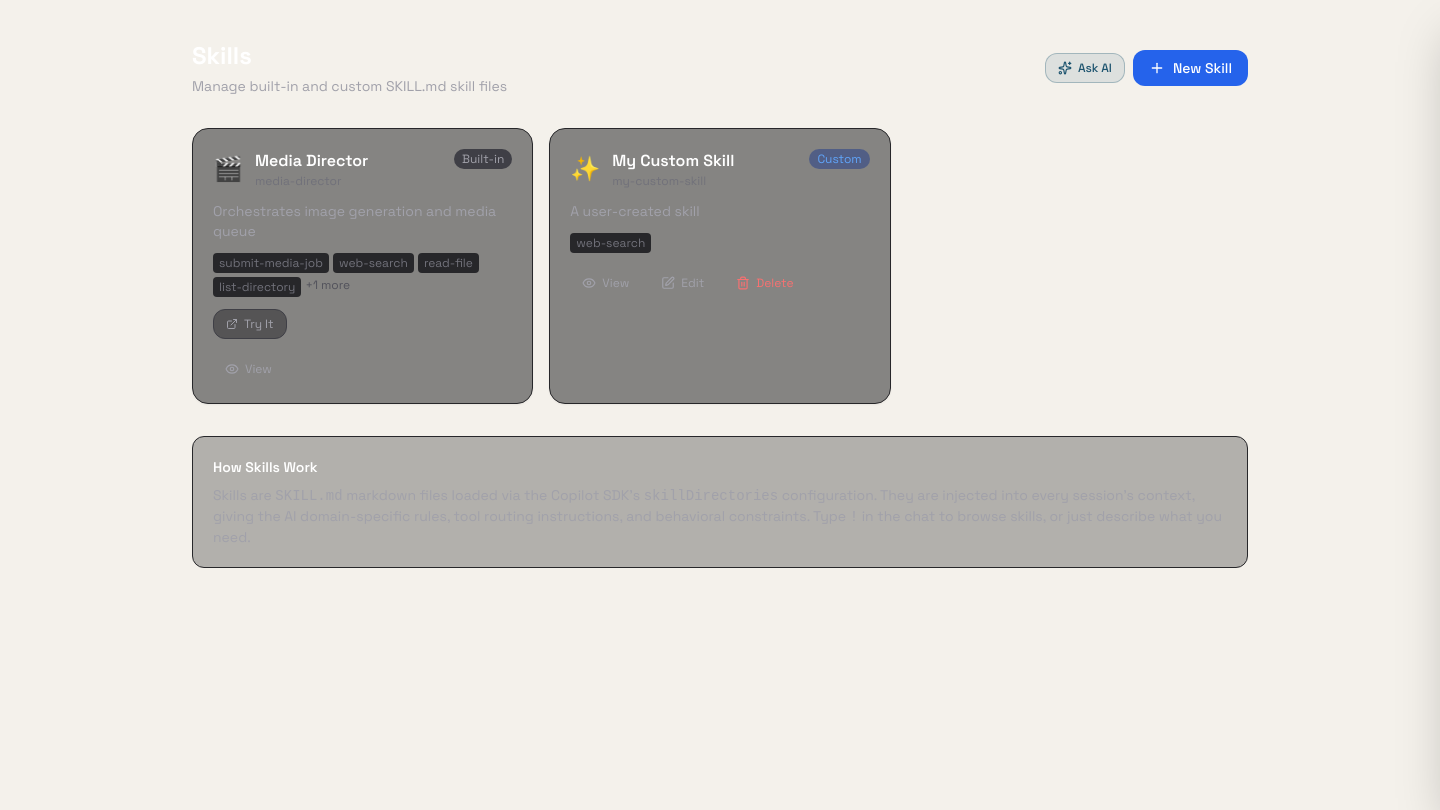
Test: SkillsPage › shows Cancel button in create view
The image size is (1440, 810).
Click the button "New Skill".
click(1190, 68)  # box top-left (1133, 50), bottom-right (1248, 86)
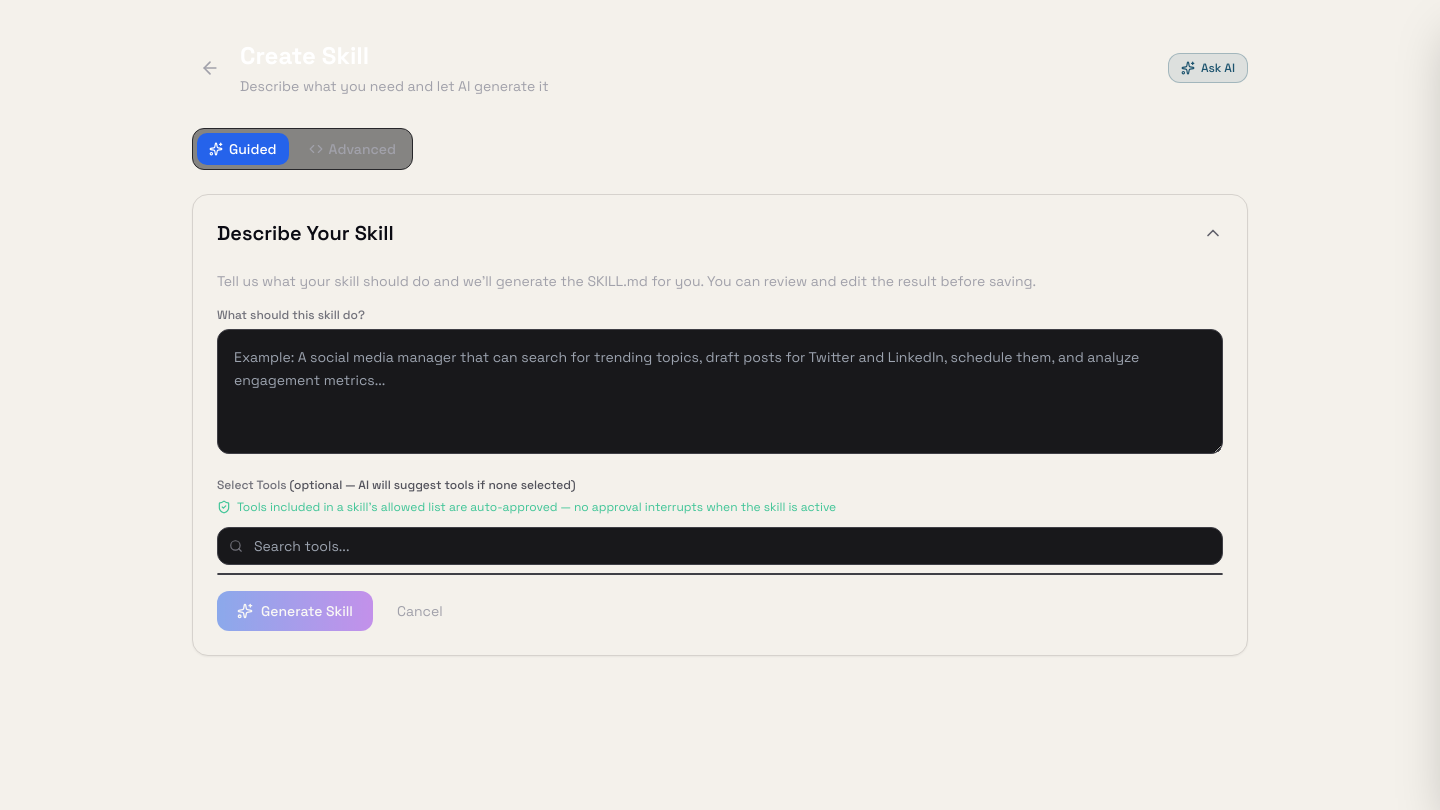
Result: the button "Cancel" is shown at top-left (381, 591), bottom-right (459, 631)
